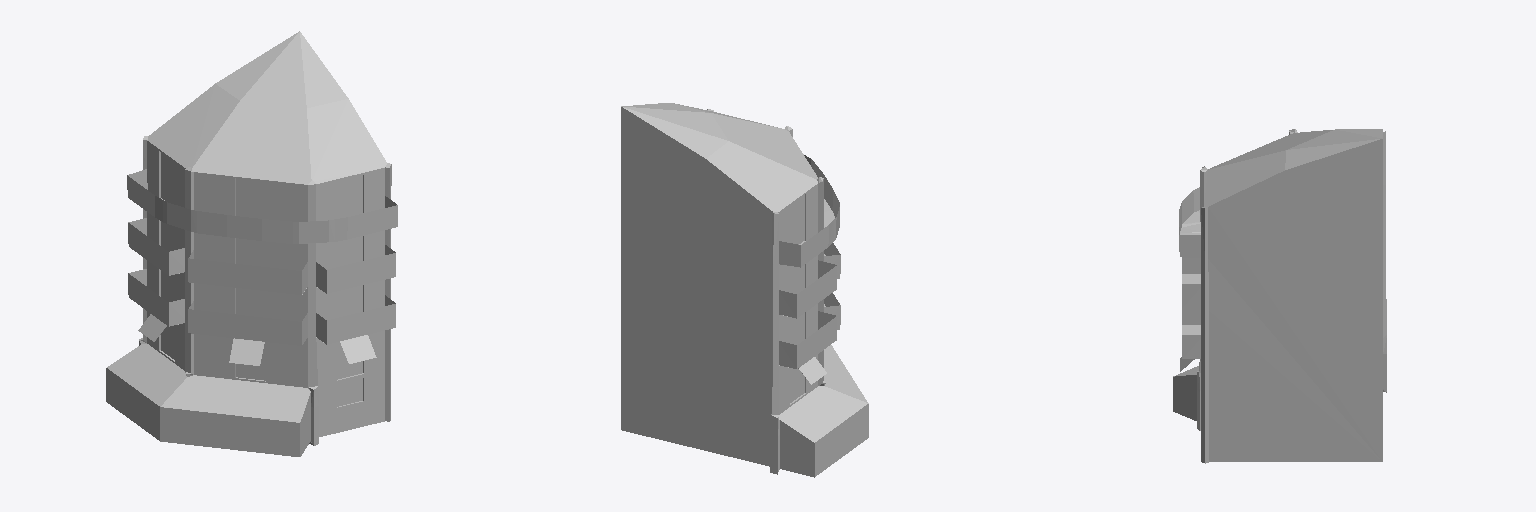
File: corner_buildings_03obj.obj
The picture shows the model from 3 angles: view 1: azimuth 30°, elevation 25°; view 2: azimuth 150°, elevation 25°; view 3: azimuth 270°, elevation 25°; orthographic projection.
Visible parts, largest first — view 1: Cube4; view 2: Cube4; view 3: Cube4.
Boxes of the visible parts, x1=… form: Cube4: x1=106, y1=31, x2=397, y2=456; Cube4: x1=621, y1=103, x2=868, y2=477; Cube4: x1=1173, y1=129, x2=1386, y2=463.
Size of the model in its own units: 25.35 by 40.47 by 24.04.